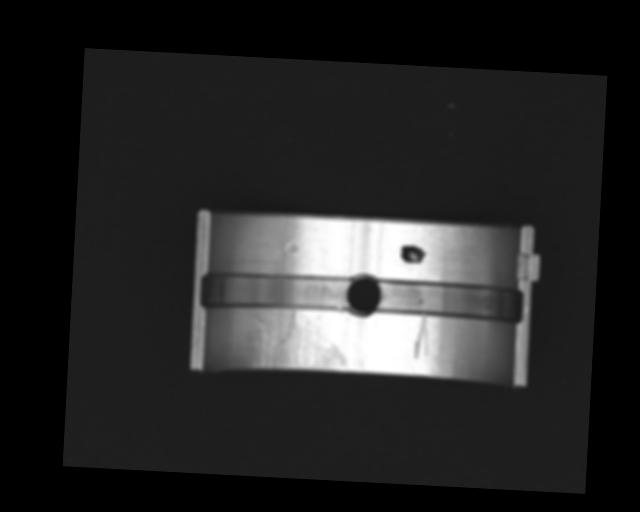blot: (400, 243, 428, 264)
bruise: (284, 240, 298, 257)
gap: (198, 269, 352, 316), (377, 279, 524, 321)
hole: (345, 272, 382, 317)
nick: (412, 312, 431, 359)
scratch: (248, 305, 350, 374)
